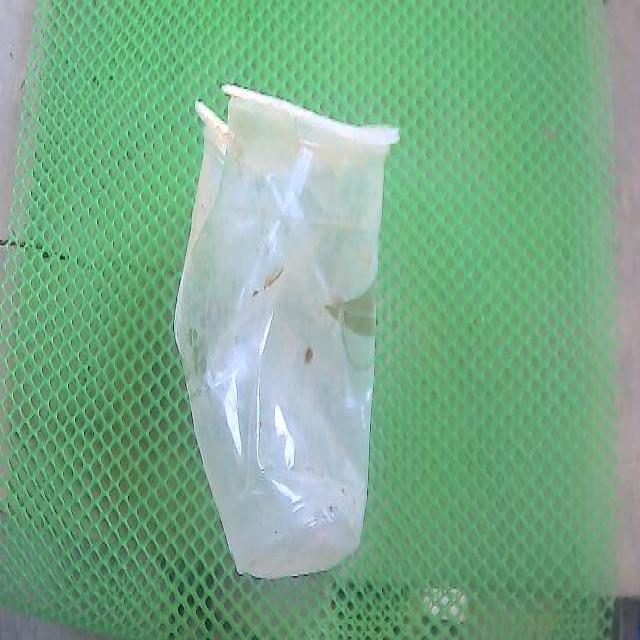bottle: (175, 84, 399, 578)
